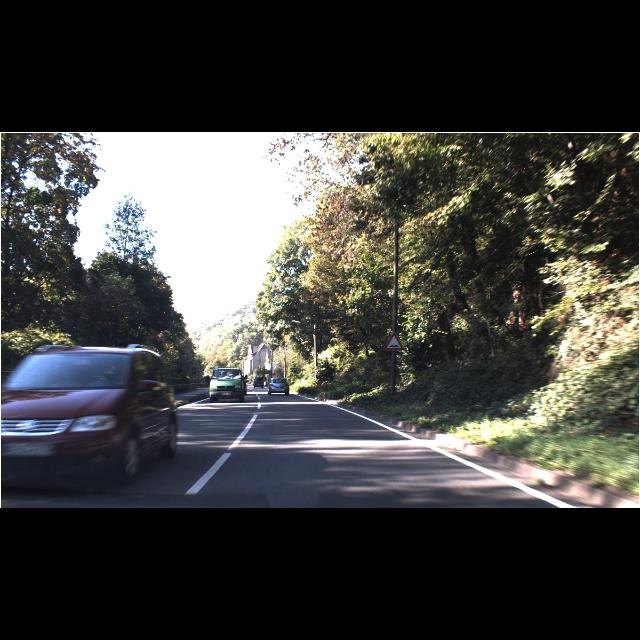danger: (384, 332, 404, 351)
